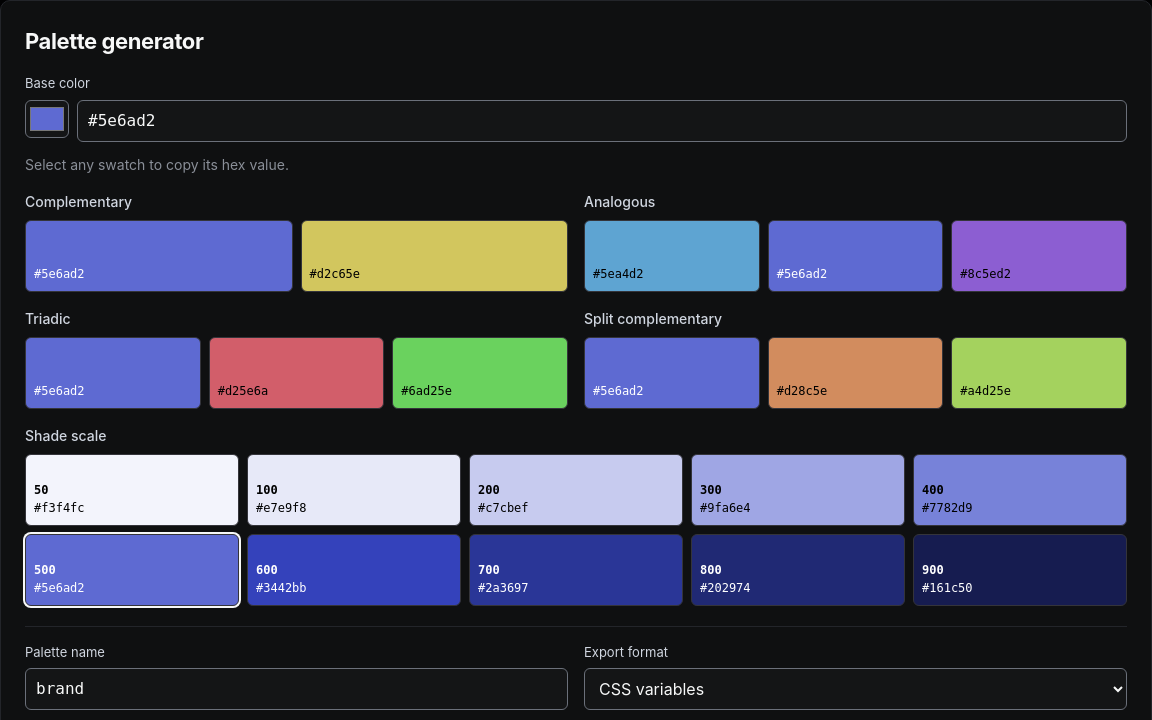
Test case: PaletteGenerator › updates when the base color changes
Step 1. Replace the text in the field labelled "Base color" with "#ff0000" → (602, 120), box top-left (77, 100), bottom-right (1127, 142)
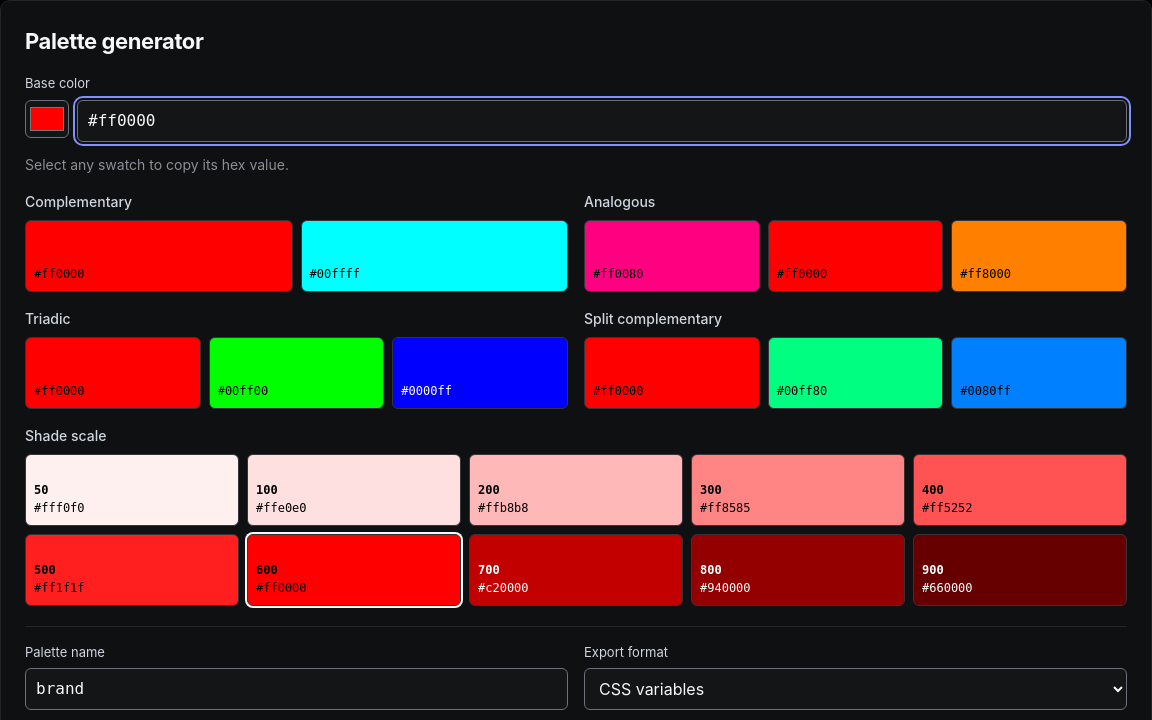
Expected: the button "#00ffff" is shown, top-left (300, 220), bottom-right (568, 292)
